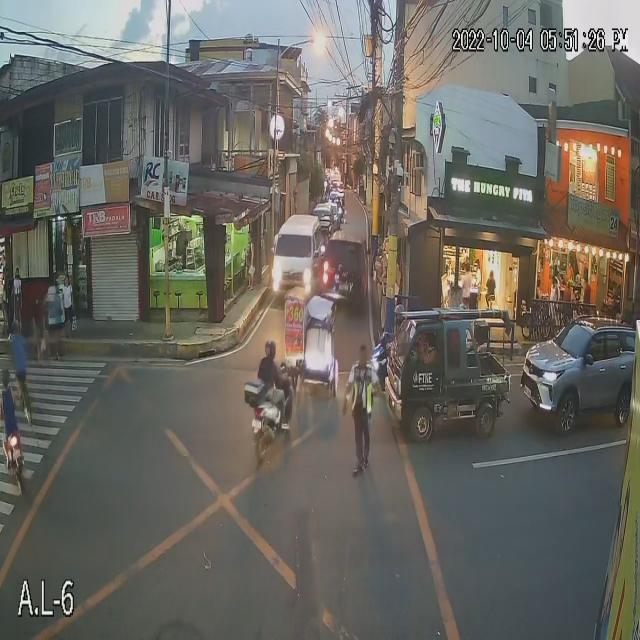helmet: (258, 336, 280, 363), (393, 303, 411, 324), (0, 365, 15, 390)
motorcycle: (362, 351, 423, 398)
rider: (255, 358, 283, 409), (392, 325, 413, 368)
